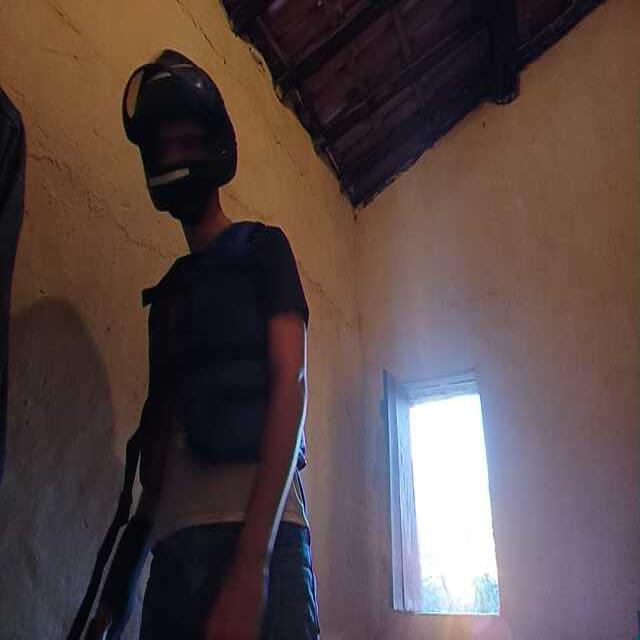capacete: (122, 60, 242, 200)
colete: (147, 222, 306, 474)
pessoa: (121, 95, 329, 640)
